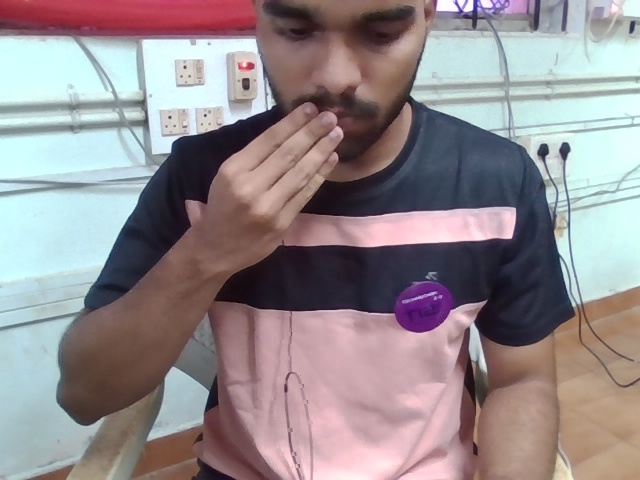eat: (188, 95, 350, 276)
